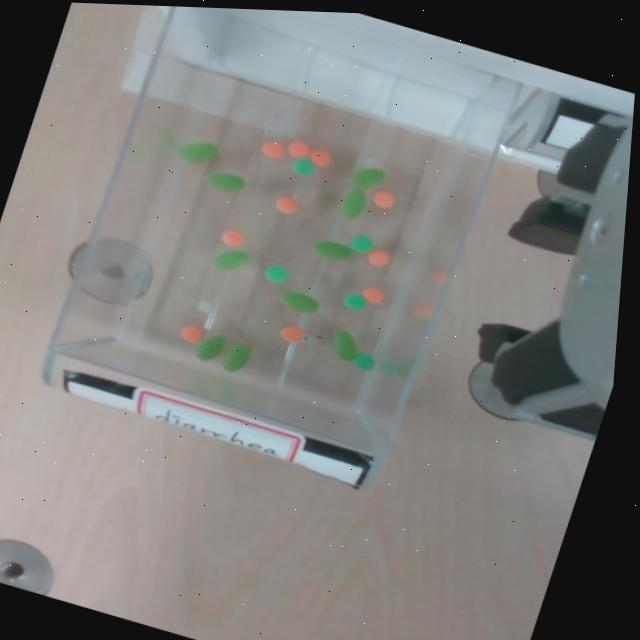famodine: (288, 154, 315, 178), (262, 262, 289, 285), (347, 232, 373, 255), (349, 350, 374, 372), (341, 290, 365, 311), (290, 158, 313, 176), (263, 265, 286, 282), (349, 236, 372, 253), (342, 293, 365, 310), (351, 353, 373, 370)
otillen_tab: (208, 243, 251, 276), (175, 134, 219, 166), (191, 329, 227, 365), (310, 236, 354, 265), (216, 340, 251, 376), (325, 328, 361, 363), (346, 161, 385, 193), (203, 167, 246, 196), (277, 288, 319, 315), (336, 186, 367, 222), (280, 291, 316, 313), (220, 344, 249, 371), (331, 330, 356, 361), (178, 142, 216, 162), (212, 249, 248, 270), (347, 167, 383, 188), (194, 335, 224, 360), (313, 241, 352, 260), (206, 172, 243, 192), (340, 189, 364, 218)
samsung_octylonium_tab: (258, 138, 284, 160), (285, 137, 311, 159), (306, 146, 331, 168), (277, 322, 302, 344), (365, 246, 390, 268), (177, 322, 201, 344), (273, 193, 297, 215), (370, 188, 394, 210), (218, 227, 243, 248), (358, 284, 383, 305), (219, 229, 243, 248), (178, 325, 203, 343), (307, 148, 330, 167), (259, 140, 283, 158), (371, 190, 394, 208), (365, 249, 388, 267), (274, 196, 296, 214), (286, 141, 309, 158), (359, 287, 382, 304), (279, 325, 301, 342)
